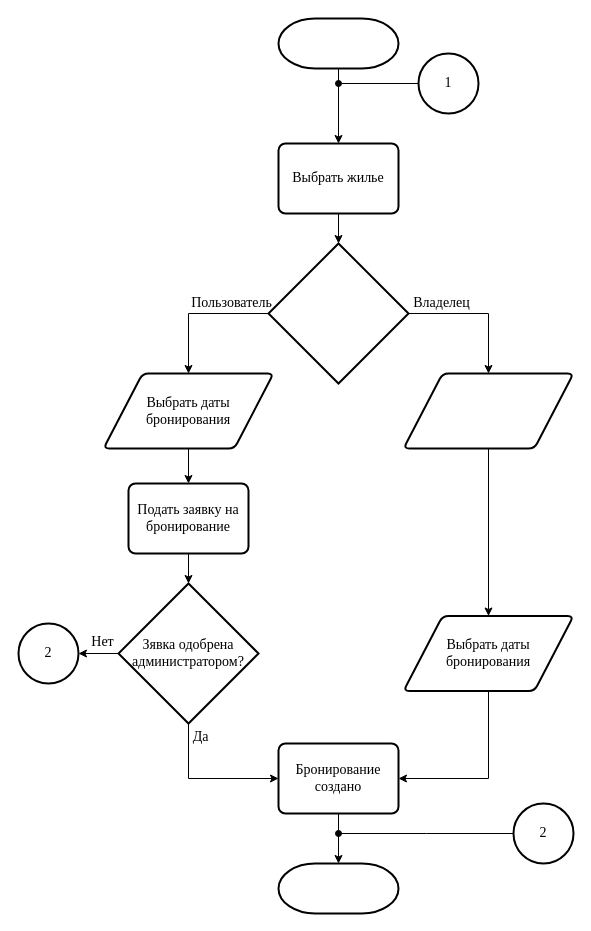
The diagram is 591 pixels wide and 931 high, and some of its shapes have lost their labels. The shapes that lost their labels are listed below. From the top down, each one's centre as x and y in pixels, then its label:
At (338,43): "Начало".
At (338,313): "Какая роль у пользователя?".
At (488,410): "Ввод имени пользователя".
At (338,888): "Конец".
